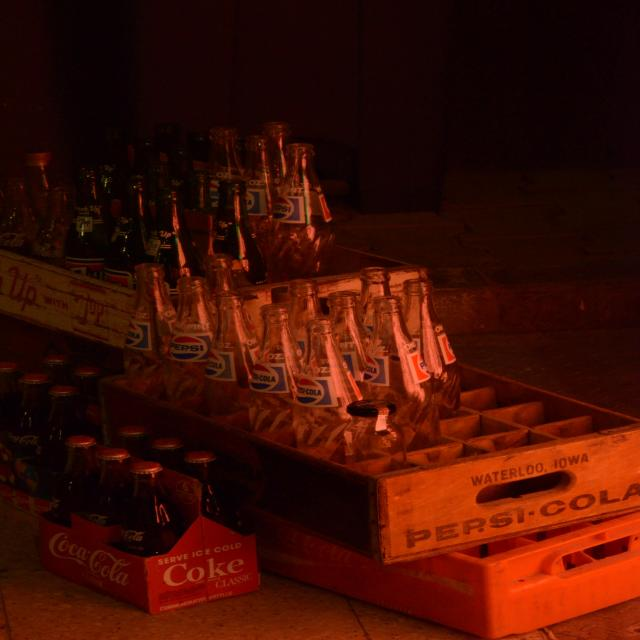electronic: (0, 112, 456, 554)
